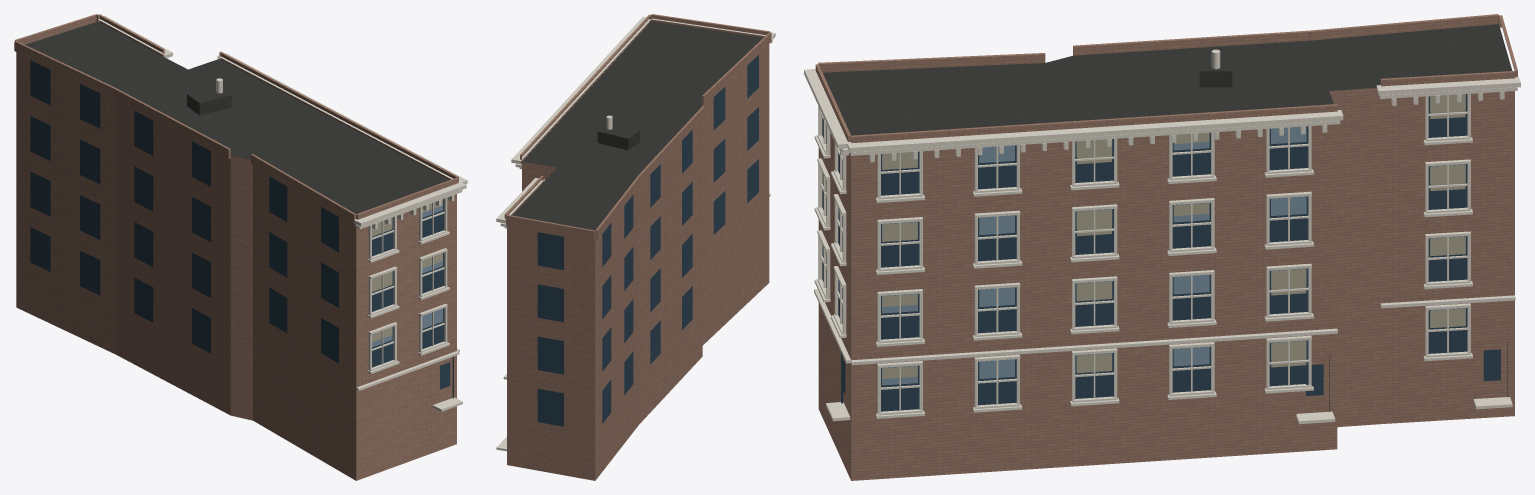
3 renders of one model, left to right at view 1: azimuth 30°, elevation 25°; view 2: azimuth 150°, elevation 25°; view 3: azimuth 270°, elevation 25°, orthographic. The views are drawn at different scales.
Parts seen in each view (by area): view 1: Footprint 0 / surface 2, Footprint 0 / surface 1, Inset glazing, Facade bay volumes, Cornices and window frames, Interior blind variation, Sky reflection panels; view 2: Footprint 0 / surface 2, Footprint 0 / surface 1, Inset glazing, Facade bay volumes, Cornices and window frames, Inferred rooftop service enclosure / surface 6, Inferred rooftop service enclosure / surface 3; view 3: Footprint 0 / surface 2, Cornices and window frames, Footprint 0 / surface 1, Inset glazing, Facade bay volumes, Interior blind variation, Sky reflection panels.
Part boxes in pixels (bbox=[...]): Footprint 0 / surface 2: bbox=[16, 52, 456, 480]; Footprint 0 / surface 1: bbox=[25, 21, 448, 213]; Inset glazing: bbox=[30, 60, 450, 389]; Facade bay volumes: bbox=[14, 14, 458, 224]; Cornices and window frames: bbox=[98, 15, 467, 411]; Interior blind variation: bbox=[372, 199, 442, 342]; Sky reflection panels: bbox=[372, 205, 442, 347]; Footprint 0 / surface 2: bbox=[507, 44, 769, 480]; Footprint 0 / surface 1: bbox=[512, 21, 763, 230]; Inset glazing: bbox=[537, 55, 758, 426]; Facade bay volumes: bbox=[504, 14, 771, 240]; Cornices and window frames: bbox=[496, 16, 775, 451]; Inferred rooftop service enclosure / surface 6: bbox=[597, 131, 628, 150]; Inferred rooftop service enclosure / surface 3: bbox=[598, 123, 639, 138]; Footprint 0 / surface 2: bbox=[818, 87, 1514, 480]; Cornices and window frames: bbox=[804, 69, 1520, 424]; Footprint 0 / surface 1: bbox=[823, 24, 1512, 135]; Inset glazing: bbox=[822, 94, 1500, 411]; Facade bay volumes: bbox=[815, 14, 1517, 143]; Interior blind variation: bbox=[822, 94, 1465, 378]; Sky reflection panels: bbox=[822, 94, 1465, 385].
Bounding box in the file's own units: 11.11 × 14.94 × 26.31.
